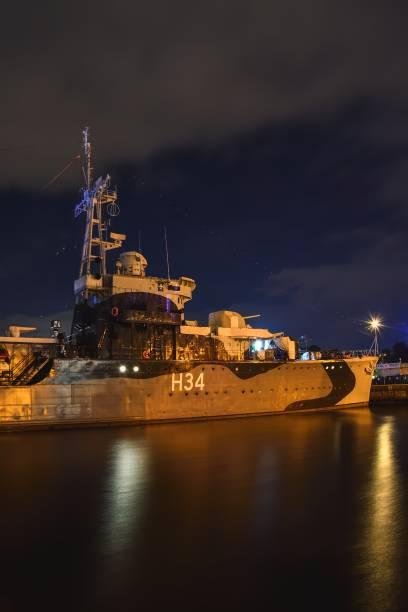MIL_Ship: (0, 236, 382, 435)
